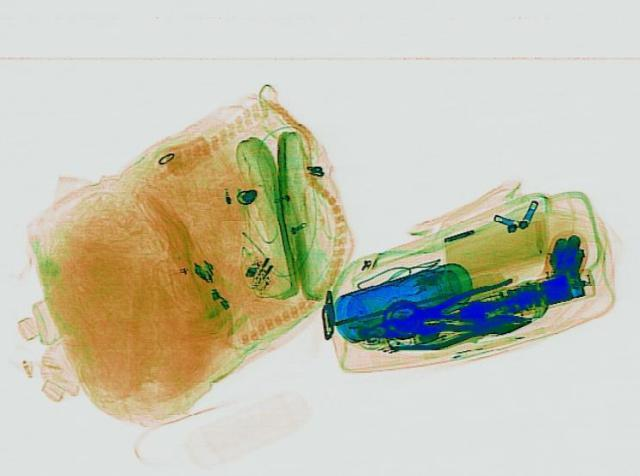Pliers: (371, 276, 529, 346), (384, 304, 536, 356)
